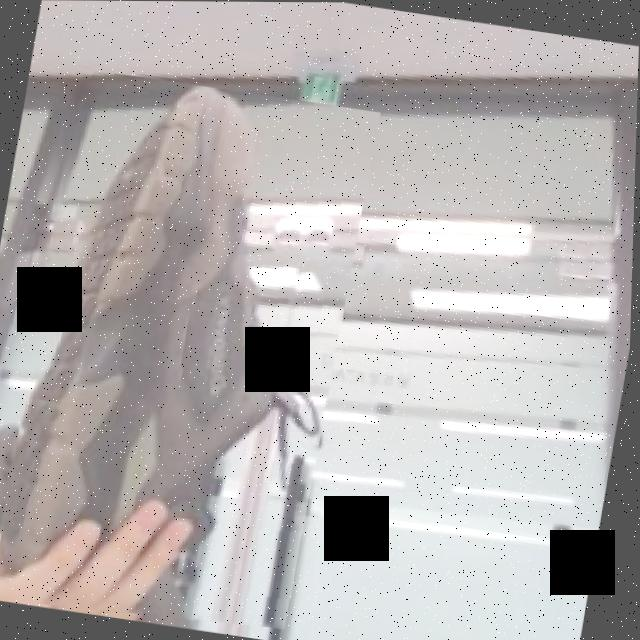shoe: (0, 67, 382, 640)
